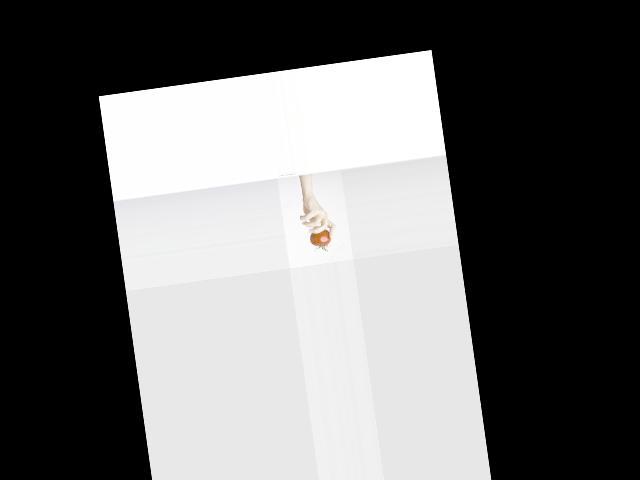tomato: (309, 229, 332, 253)
